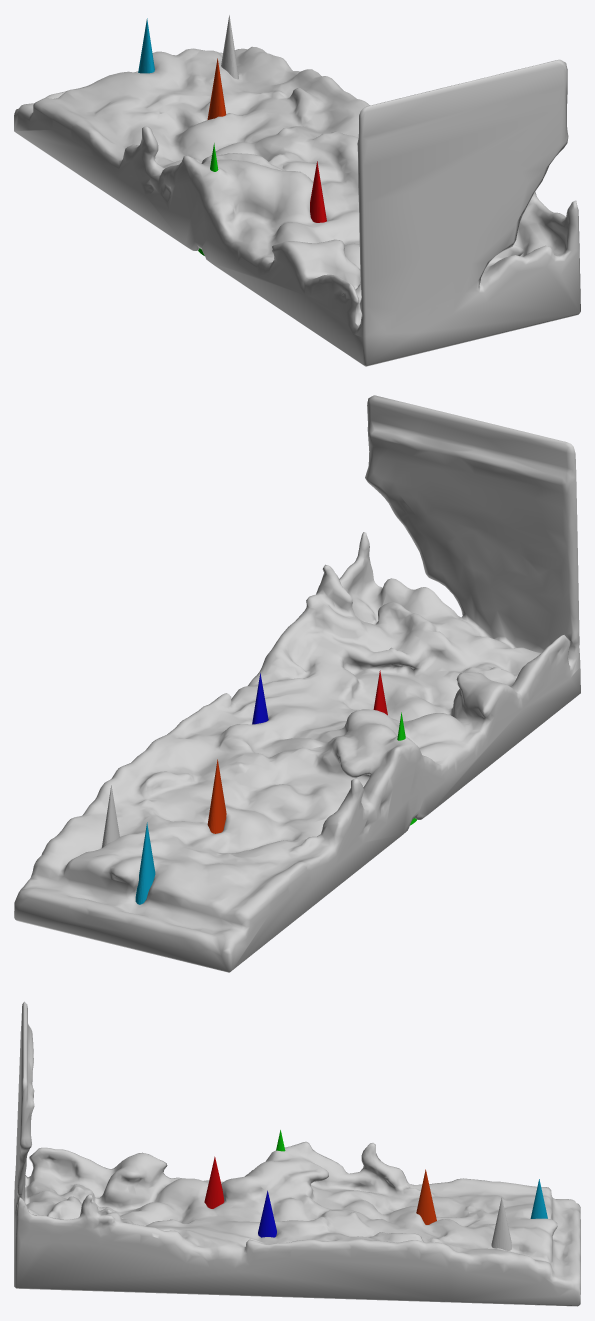
3 views of the same model, one above another, from view 1: azimuth 30°, elevation 25°; view 2: azimuth 150°, elevation 25°; view 3: azimuth 270°, elevation 25° (orthographic). The views are drawn at different scales.
Parts seen in each view (by area): view 1: Liquid_Domain, 円錐.001, 円錐.004, 円錐, 円錐.005; view 2: Liquid_Domain, 円錐.005, 円錐.004; view 3: Liquid_Domain, 円錐, 円錐.004, 円錐.001, 円錐.002.
Boxes of the visible parts, <box> form: Liquid_Domain: <box>14,46,580,366</box>; 円錐.001: <box>310,161,326,222</box>; 円錐.004: <box>207,58,226,119</box>; 円錐: <box>221,15,238,79</box>; 円錐.005: <box>138,18,154,73</box>; Liquid_Domain: <box>14,395,580,972</box>; 円錐.005: <box>135,822,155,904</box>; 円錐.004: <box>207,759,226,833</box>; Liquid_Domain: <box>14,1001,580,1306</box>; 円錐: <box>491,1197,511,1250</box>; 円錐.004: <box>416,1169,436,1224</box>; 円錐.001: <box>204,1156,224,1208</box>; 円錐.002: <box>258,1190,276,1237</box>.
Bounding box in the file's own units: 129 × 158 × 361.
